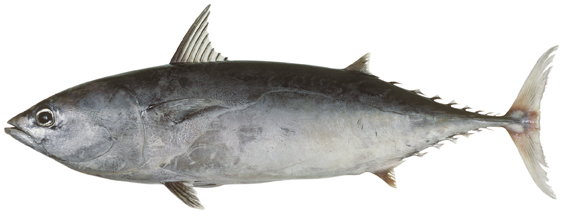fish: (4, 4, 560, 208)
